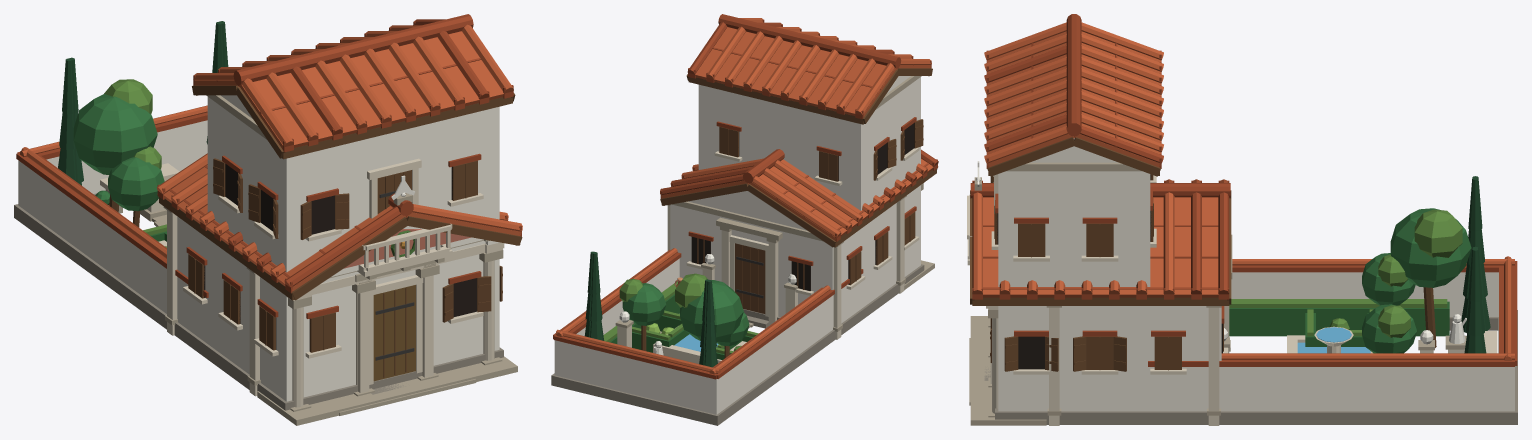
Rendered from Gelehrtenhaus.fbx.
3 views of the same model, side by side, from view 1: azimuth 30°, elevation 25°; view 2: azimuth 150°, elevation 25°; view 3: azimuth 270°, elevation 25° (orthographic). The views are drawn at different scales.
Visible parts, largest first — view 1: Gelehrtenhaus_1, Gelehrtenhaus_0; view 2: Gelehrtenhaus_1, Gelehrtenhaus_0; view 3: Gelehrtenhaus_1, Gelehrtenhaus_0.
Part boxes in pixels (x1,y1,x2,y2): Gelehrtenhaus_1: [14, 14, 515, 410]; Gelehrtenhaus_0: [14, 21, 522, 425]; Gelehrtenhaus_1: [551, 14, 932, 425]; Gelehrtenhaus_0: [554, 149, 938, 416]; Gelehrtenhaus_1: [967, 14, 1517, 424]; Gelehrtenhaus_0: [969, 161, 1517, 425].
Bounding box in the file's own units: 1.72 × 2.22 × 3.62.
